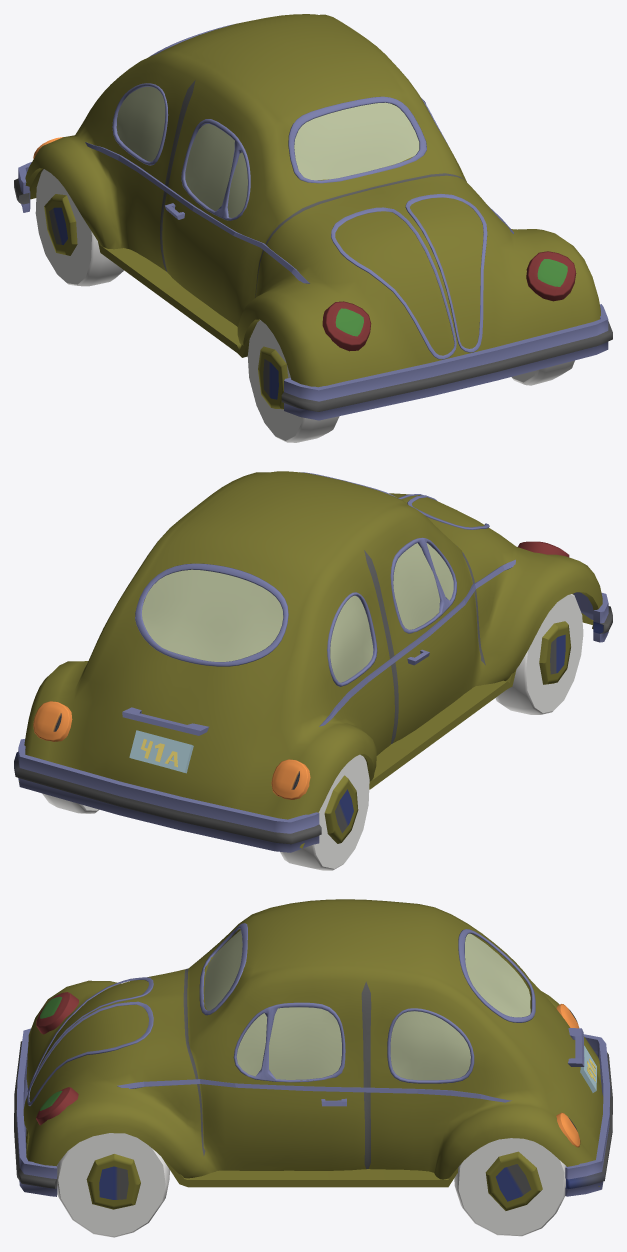
The model's file is Garage_Car.fbx.
The picture shows the model from 3 angles, top to bottom: view 1: azimuth 30°, elevation 25°; view 2: azimuth 150°, elevation 25°; view 3: azimuth 270°, elevation 25°; orthographic projection. The views are drawn at different scales.
Parts seen in each view (by area): view 1: Garage_Car; view 2: Garage_Car; view 3: Garage_Car.
Part boxes in pixels (<box>): Garage_Car: <box>14,14,612,442</box>; Garage_Car: <box>14,471,612,870</box>; Garage_Car: <box>14,899,612,1237</box>.
Size of the model in its own units: 229 by 183 by 391.
